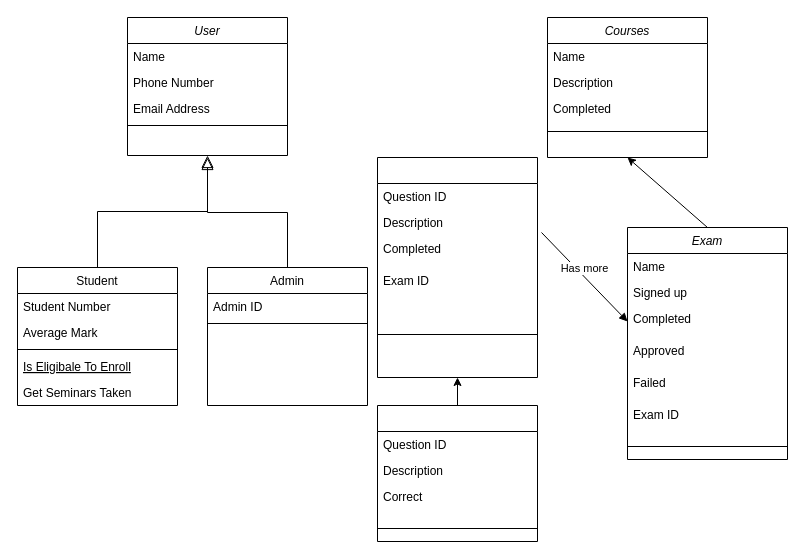
The diagram is 805 pixels wide and 559 high, and some of its shapes have lost their labels. Each missing label, with the box of its shape:
Answers: (376, 404, 538, 542)
Questions: (376, 156, 538, 378)
